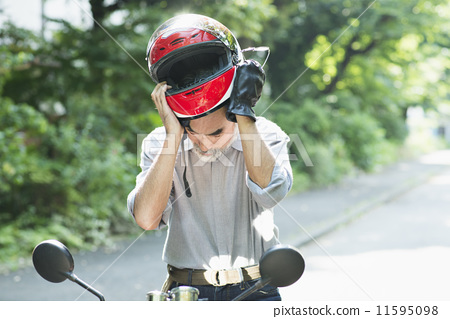helmet: (137, 15, 247, 120)
